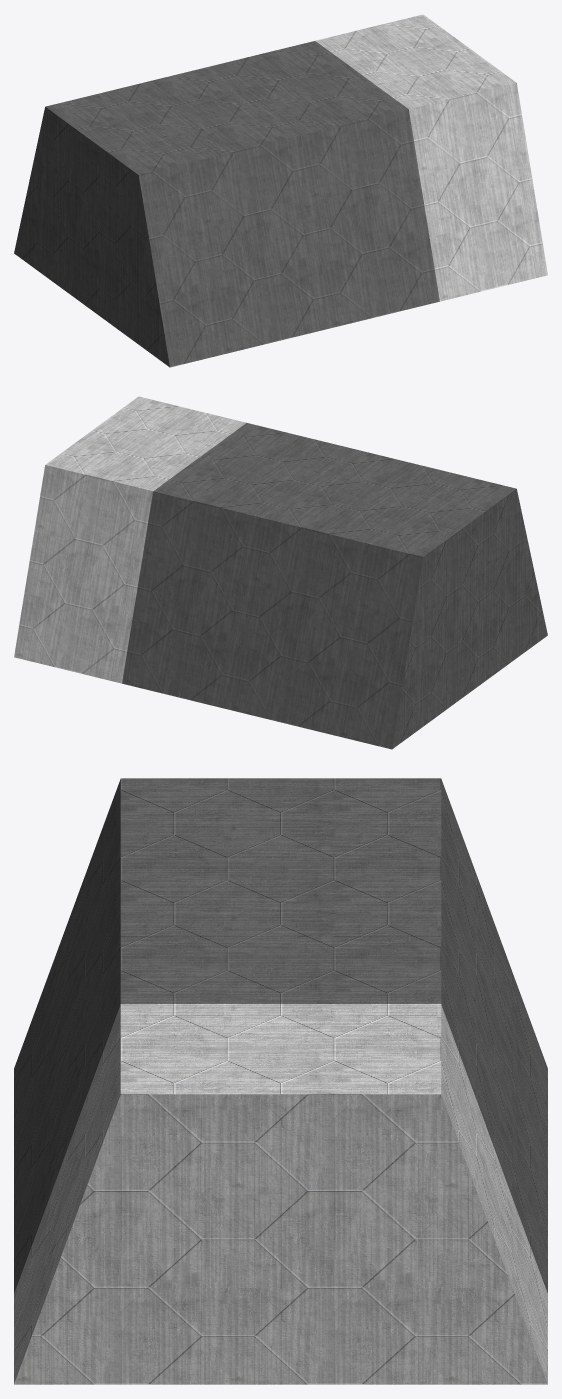
File: Hangarinnen.dae
3 views of the same model, one above another, from view 1: azimuth 30°, elevation 25°; view 2: azimuth 150°, elevation 25°; view 3: azimuth 270°, elevation 25° (orthographic). The views are drawn at different scales.
Parts seen in each view (by area): view 1: user_defined1, user_defined2; view 2: user_defined1, user_defined2; view 3: user_defined2, user_defined1.
Boxes of the visible parts, x1,y1,x2,y2 form: user_defined1: (14,41,439,367); user_defined2: (315,14,547,301); user_defined1: (122,423,547,749); user_defined2: (14,396,246,683); user_defined2: (14,1004,547,1384); user_defined1: (14,778,547,1293).
Bounding box in the file's own units: 1792 × 768 × 1280.
3 materials, 3 textured.
